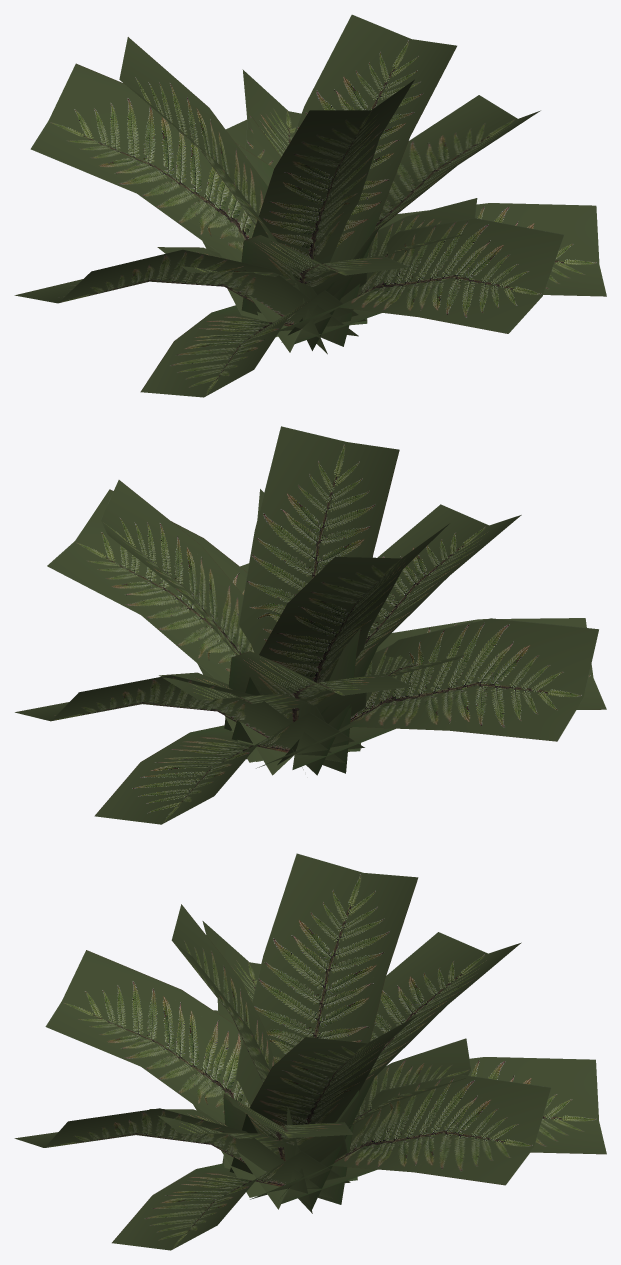
Rendered from foliage_fern_01_mesh.FBX.
3 views of the same model, one above another, from view 1: azimuth 30°, elevation 25°; view 2: azimuth 150°, elevation 25°; view 3: azimuth 270°, elevation 25° (orthographic). The views are drawn at different scales.
Parts seen in each view (by area): view 1: foliage_fern_1; view 2: foliage_fern_1; view 3: foliage_fern_1.
Boxes of the visible parts, x1=… form: foliage_fern_1: x1=14, y1=14, x2=606, y2=397; foliage_fern_1: x1=15, y1=426, x2=606, y2=824; foliage_fern_1: x1=14, y1=853, x2=606, y2=1250.
Size of the model in its own units: 1164 by 568 by 1164.
